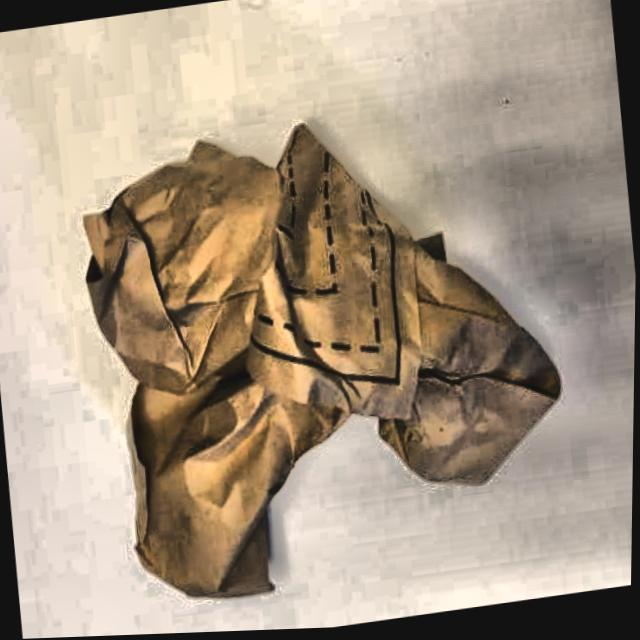Paper: (67, 88, 579, 615)
